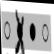correct: (29, 20, 36, 44)
not correct: (13, 8, 26, 54)
